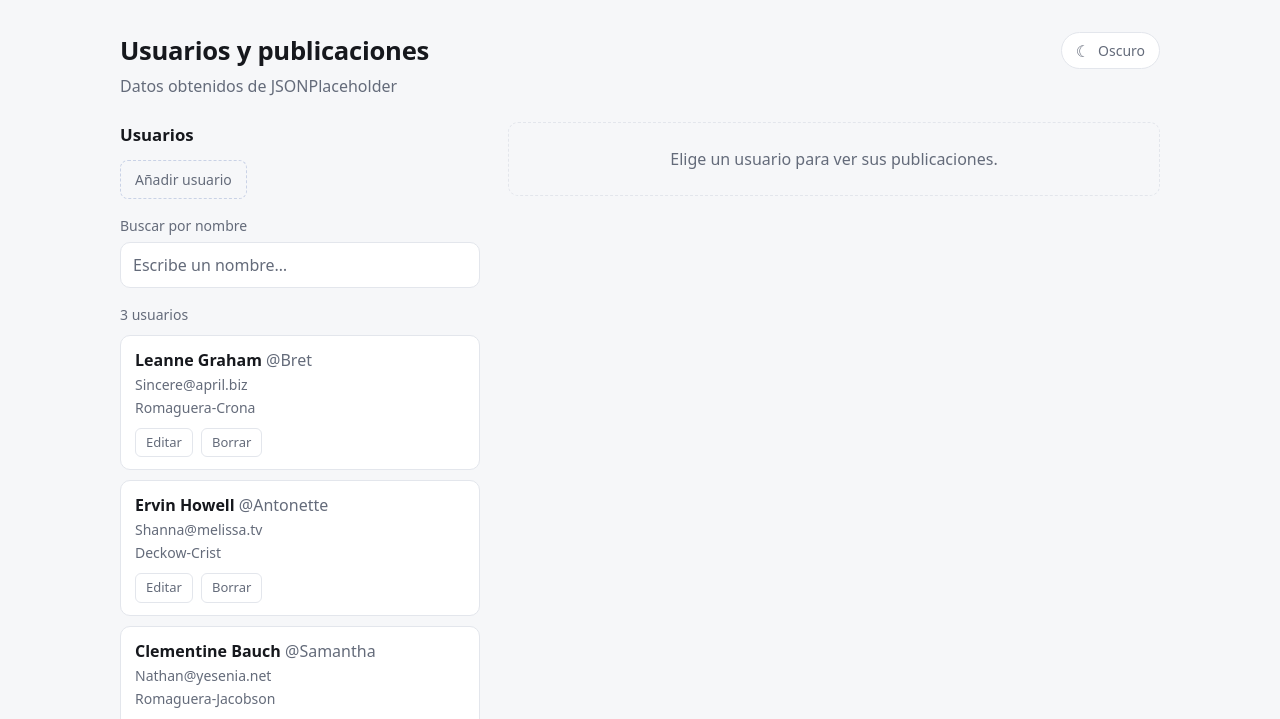
App › permite cancelar el borrado
Click the button with aria-label "ver publicaciones de leanne graham" at (198, 360), box [135,348,465,418]
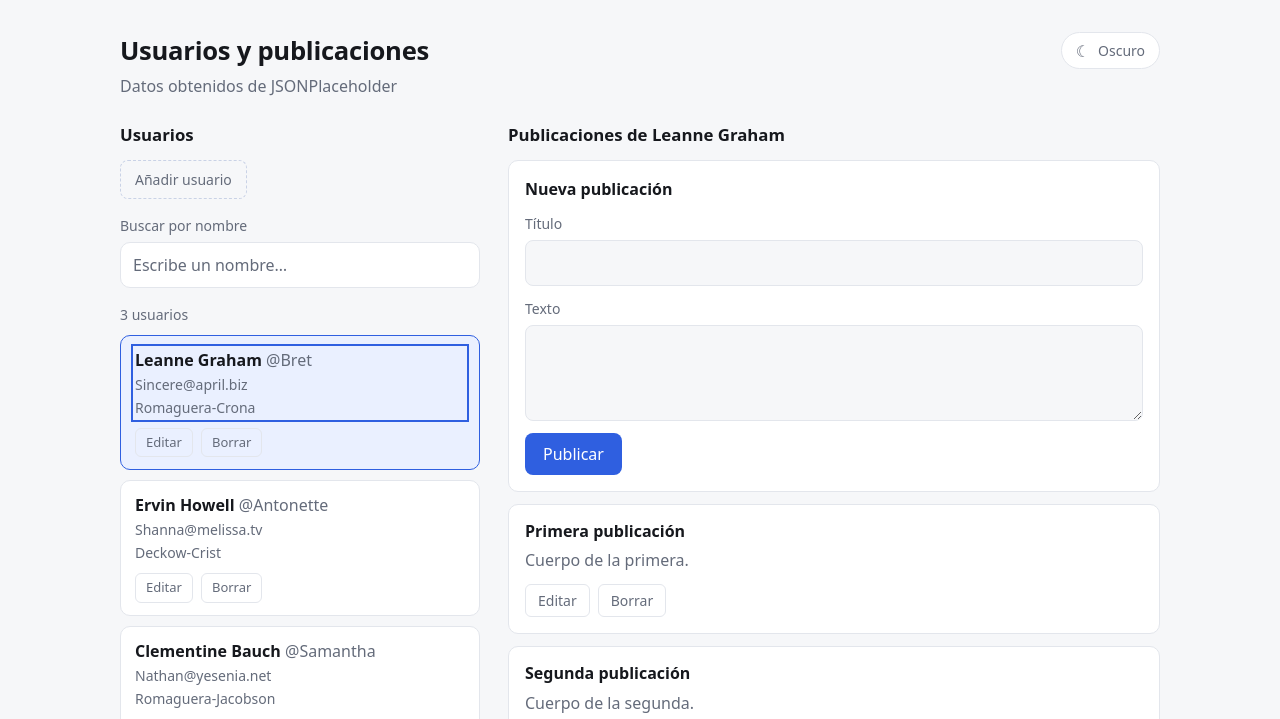
Check: the heading "Primera publicación" is shown, box [525,520,685,542]
Click the button with aria-label "borrar: primera publicación" at (632, 601), box [598,584,666,617]
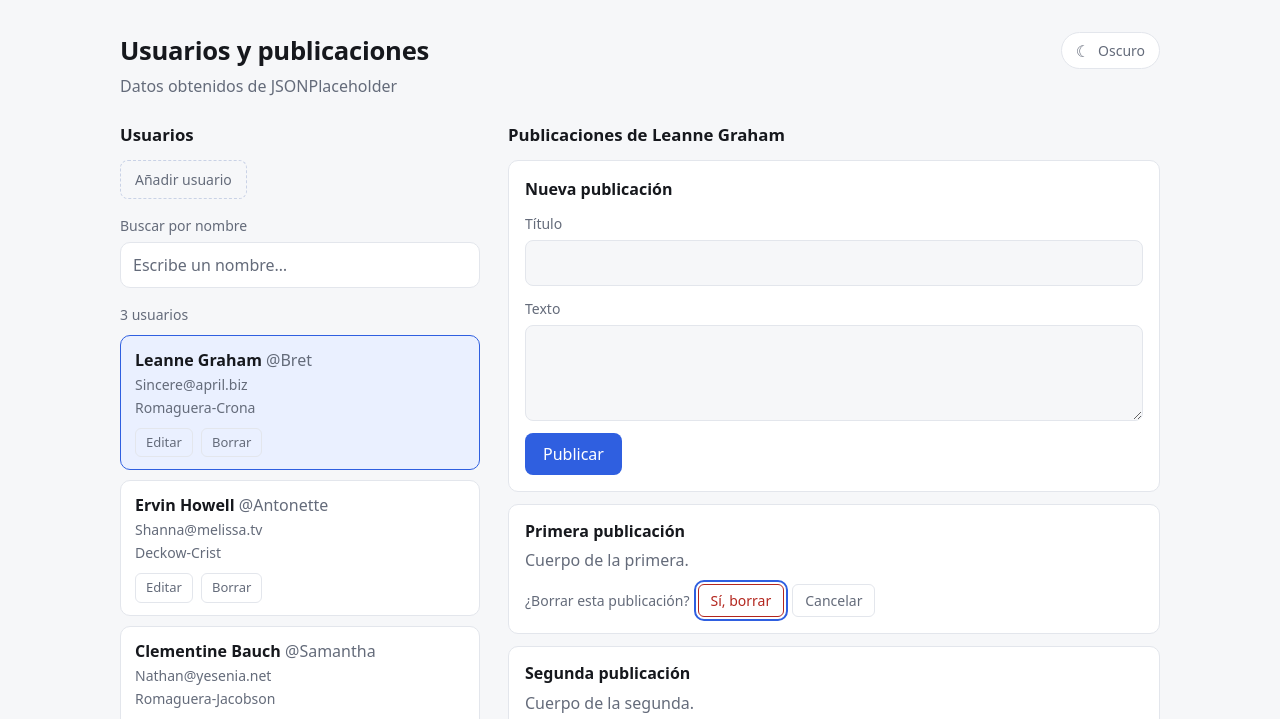
Click the button "Cancelar" at (834, 601), box [792,584,876,617]
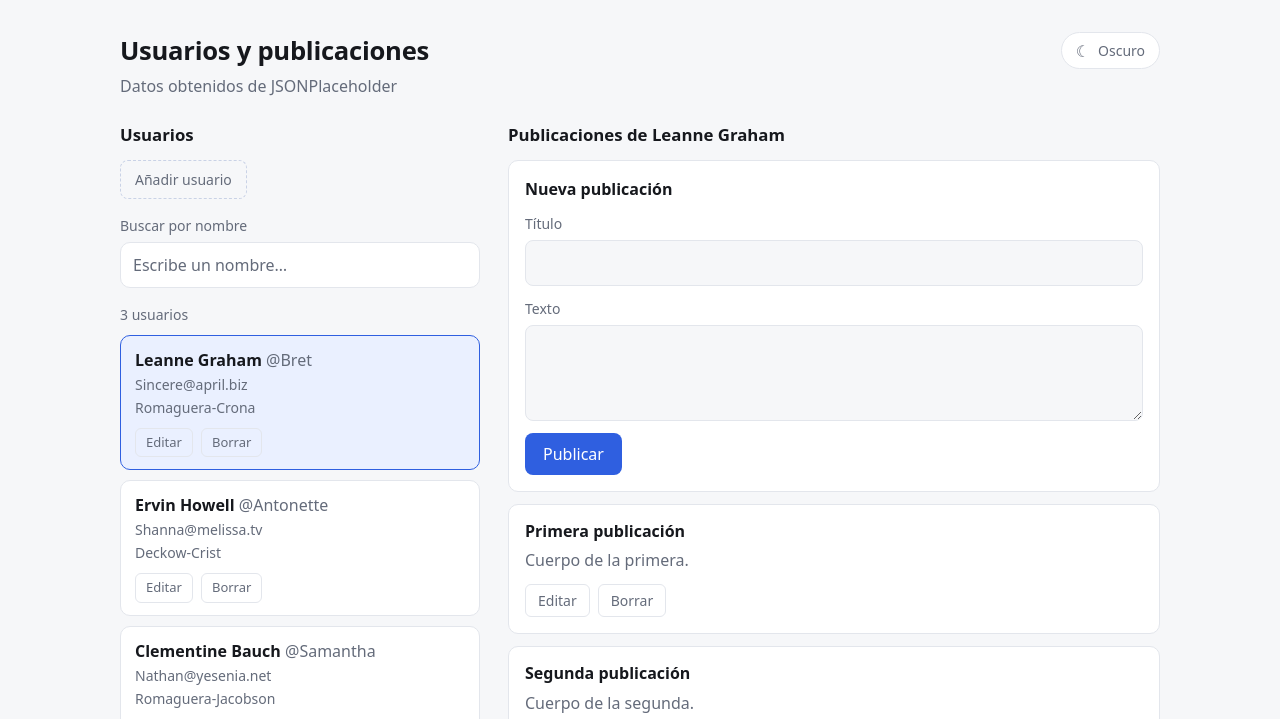
Check: the heading "Primera publicación" is shown, box [525,520,685,542]
Check: the button with aria-label "borrar: primera publicación" is shown, box [598,584,666,617]
